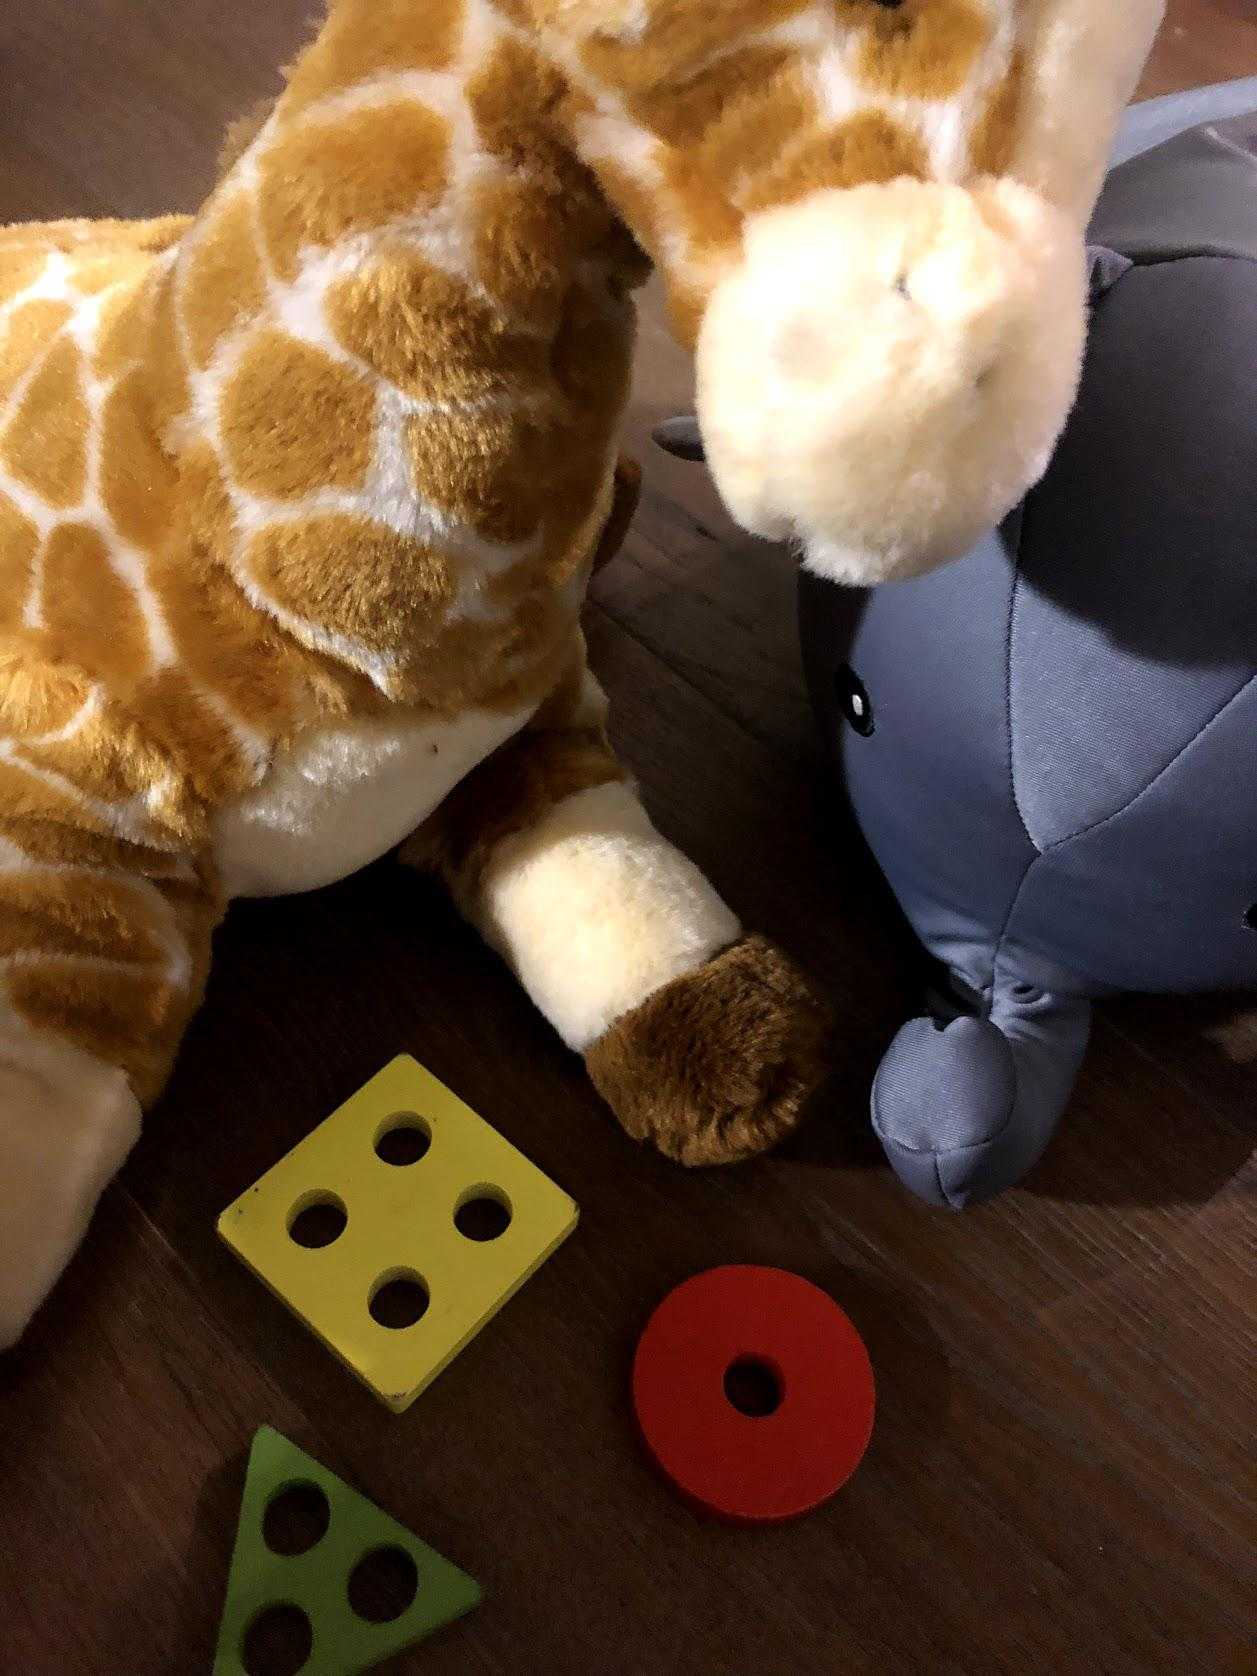Circle: (631, 1258, 885, 1528)
Square: (209, 1050, 581, 1408)
Triangle: (193, 1427, 500, 1675)
